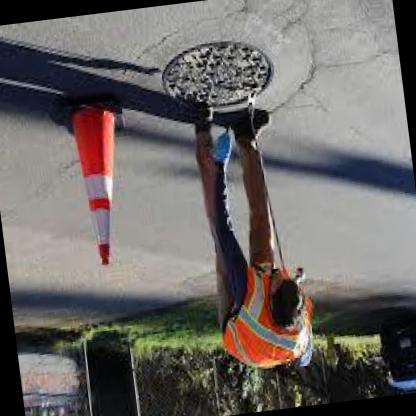manholes: (151, 15, 292, 137)
